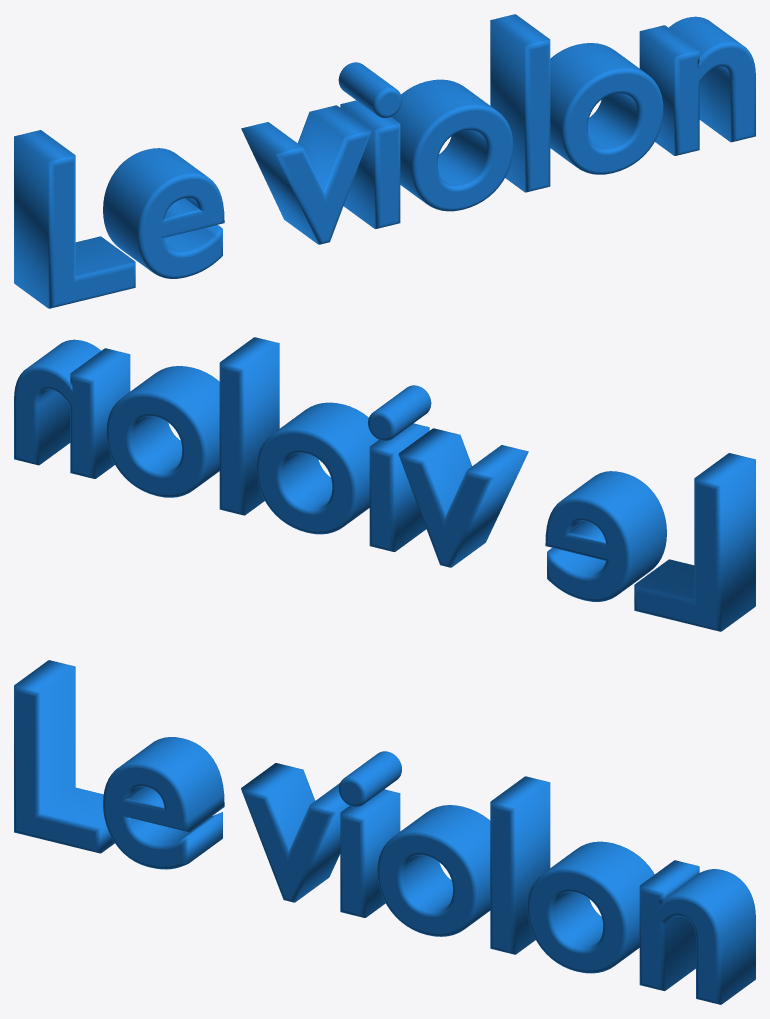
The picture shows the model from 3 angles, top to bottom: view 1: azimuth 30°, elevation 25°; view 2: azimuth 150°, elevation 25°; view 3: azimuth 330°, elevation 25°; orthographic projection.
Visible parts, largest first — view 1: Text; view 2: Text; view 3: Text.
Boxes of the visible parts, x1=… form: Text: x1=14, y1=14, x2=755, y2=308; Text: x1=14, y1=337, x2=755, y2=631; Text: x1=14, y1=660, x2=755, y2=1004.
Size of the model in its own units: 3.63 by 0.731 by 0.34.
